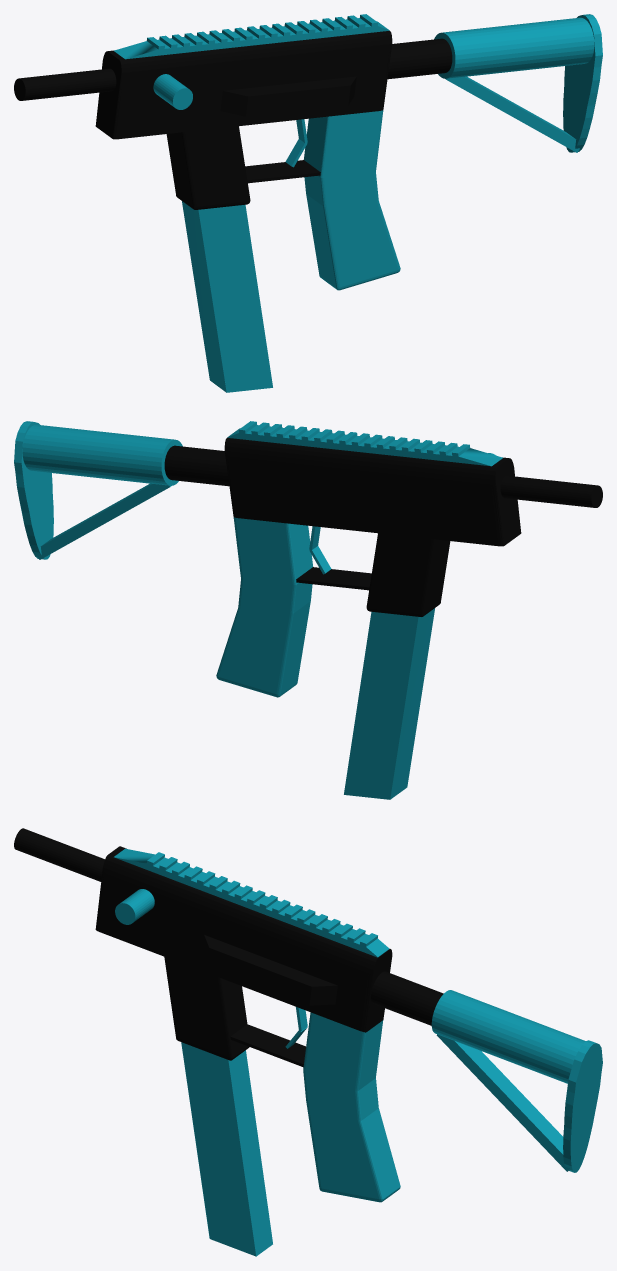
File: fgc0004.obj
3 views of the same model, one above another, from view 1: azimuth 30°, elevation 25°; view 2: azimuth 150°, elevation 25°; view 3: azimuth 330°, elevation 25° (orthographic).
Visible parts, largest first — view 1: upperReceiver, rearPistolGrip, mag, StockCylinder, magWell, picatinyRail, ejectorCover, buttPlate, barrel, bufferTube, stockSupport, lowerTriggerGuard (+1 smaller); view 2: upperReceiver, rearPistolGrip, mag, StockCylinder, magWell, picatinyRail, buttPlate, barrel, bufferTube, stockSupport, lowerTriggerGuard; view 3: upperReceiver, rearPistolGrip, mag, StockCylinder, magWell, picatinyRail, ejectorCover, buttPlate, stockSupport, bufferTube, barrel, lowerTriggerGuard (+1 smaller).
Boxes of the visible parts, x1=… form: upperReceiver: x1=95, y1=30, x2=392, y2=139; rearPistolGrip: x1=303, y1=110, x2=400, y2=290; mag: x1=182, y1=201, x2=272, y2=392; StockCylinder: x1=434, y1=17, x2=594, y2=78; magWell: x1=166, y1=126, x2=250, y2=209; picatinyRail: x1=114, y1=14, x2=389, y2=59; ejectorCover: x1=220, y1=76, x2=356, y2=116; buttPlate: x1=563, y1=14, x2=602, y2=152; barrel: x1=14, y1=68, x2=116, y2=100; bufferTube: x1=387, y1=38, x2=452, y2=79; stockSupport: x1=445, y1=76, x2=579, y2=152; lowerTriggerGuard: x1=245, y1=160, x2=320, y2=183; upperReceiver: x1=224, y1=438, x2=521, y2=546; rearPistolGrip: x1=216, y1=517, x2=313, y2=697; mag: x1=344, y1=608, x2=434, y2=799; StockCylinder: x1=22, y1=424, x2=182, y2=485; magWell: x1=366, y1=533, x2=450, y2=616; picatinyRail: x1=227, y1=421, x2=502, y2=466; buttPlate: x1=14, y1=421, x2=53, y2=559; barrel: x1=500, y1=475, x2=602, y2=507; bufferTube: x1=164, y1=445, x2=229, y2=486; stockSupport: x1=37, y1=483, x2=171, y2=559; lowerTriggerGuard: x1=296, y1=567, x2=371, y2=590; upperReceiver: x1=95, y1=846, x2=392, y2=1032; rearPistolGrip: x1=303, y1=1012, x2=400, y2=1202; mag: x1=181, y1=1042, x2=272, y2=1256; StockCylinder: x1=431, y1=990, x2=585, y2=1083; magWell: x1=164, y1=957, x2=249, y2=1060; picatinyRail: x1=114, y1=848, x2=389, y2=957; ejectorCover: x1=201, y1=935, x2=337, y2=1005; buttPlate: x1=563, y1=1040, x2=602, y2=1172; stockSupport: x1=436, y1=1034, x2=569, y2=1171; bufferTube: x1=371, y1=971, x2=443, y2=1025; barrel: x1=14, y1=828, x2=104, y2=881; lowerTriggerGuard: x1=230, y1=1024, x2=305, y2=1067.
Size of the model in its own units: 4.55 by 2.77 by 0.5812.
